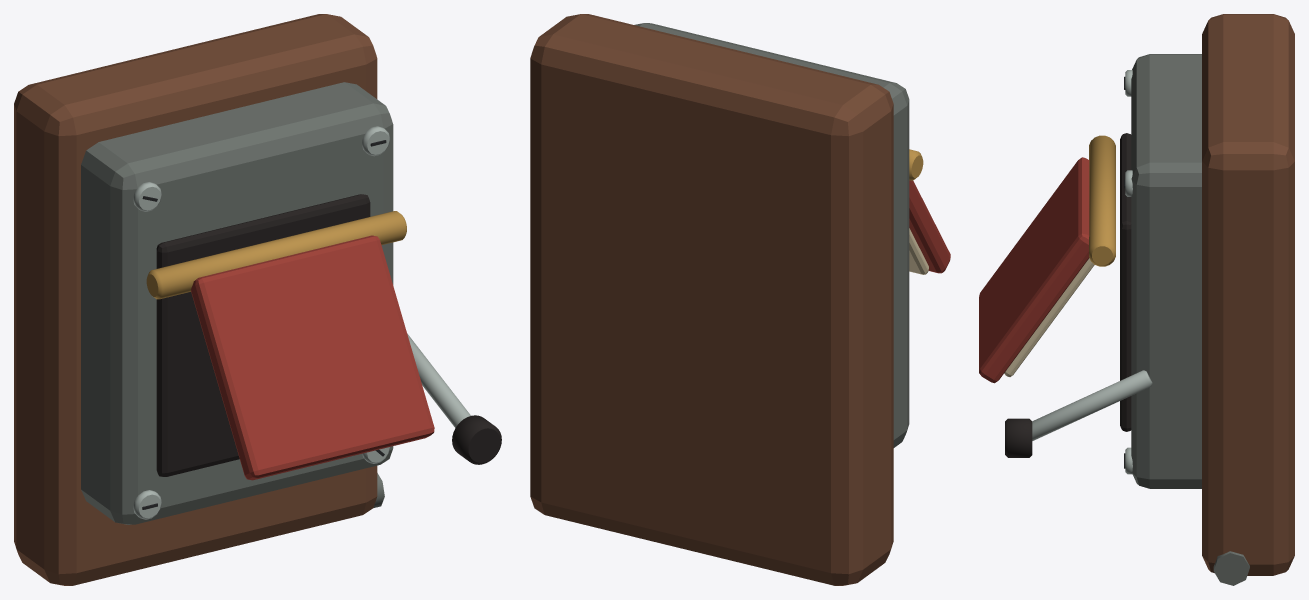
The model's file is DropFlagIndicator.fbx.
3 views of the same model, side by side, from view 1: azimuth 30°, elevation 25°; view 2: azimuth 150°, elevation 25°; view 3: azimuth 270°, elevation 25° (orthographic). The views are drawn at different scales.
Visible parts, largest first — view 1: Varnished mounting plate, Indicator housing, Red flag, Dark recess, Hinge pin, Reset knob, Reset lever, Mounting screw 2.001, Mounting screw 1.001, Mounting screw 4.001; view 2: Varnished mounting plate, Indicator housing, Red flag, Ivory flag back; view 3: Varnished mounting plate, Indicator housing, Red flag, Hinge pin, Dark recess, Reset lever, Ivory flag back, Reset knob, Signal conduit.
Boxes of the visible parts, bbox=[...] form: Varnished mounting plate: bbox=[14, 14, 377, 585]; Indicator housing: bbox=[81, 82, 393, 524]; Red flag: bbox=[191, 235, 434, 480]; Dark recess: bbox=[156, 194, 370, 476]; Hinge pin: bbox=[146, 211, 406, 299]; Reset knob: bbox=[452, 415, 501, 464]; Reset lever: bbox=[407, 333, 470, 427]; Mounting screw 2.001: bbox=[133, 182, 161, 211]; Mounting screw 1.001: bbox=[133, 490, 161, 519]; Mounting screw 4.001: bbox=[362, 126, 389, 156]; Varnished mounting plate: bbox=[530, 14, 893, 585]; Indicator housing: bbox=[634, 23, 909, 447]; Red flag: bbox=[909, 180, 950, 273]; Ivory flag back: bbox=[909, 228, 928, 274]; Varnished mounting plate: bbox=[1202, 14, 1294, 575]; Indicator housing: bbox=[1131, 54, 1201, 488]; Red flag: bbox=[979, 157, 1089, 383]; Hinge pin: bbox=[1089, 135, 1115, 266]; Dark recess: bbox=[1120, 133, 1131, 431]; Reset lever: bbox=[1032, 370, 1152, 440]; Ivory flag back: bbox=[1004, 258, 1094, 376]; Reset knob: bbox=[1005, 418, 1032, 457]; Signal conduit: bbox=[1213, 551, 1249, 585].
Size of the model in its own units: 0.231 by 0.314 by 0.2076.
